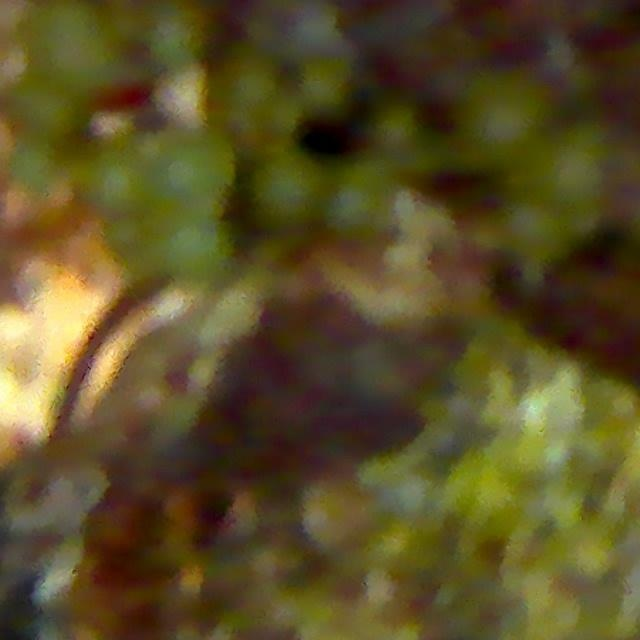SeaGrape: (32, 0, 129, 99), (459, 71, 552, 168), (531, 126, 618, 213), (147, 208, 236, 290), (160, 129, 237, 210), (252, 148, 329, 229), (82, 148, 154, 220), (142, 0, 213, 71), (12, 78, 82, 145), (503, 200, 570, 265), (100, 212, 147, 260)
